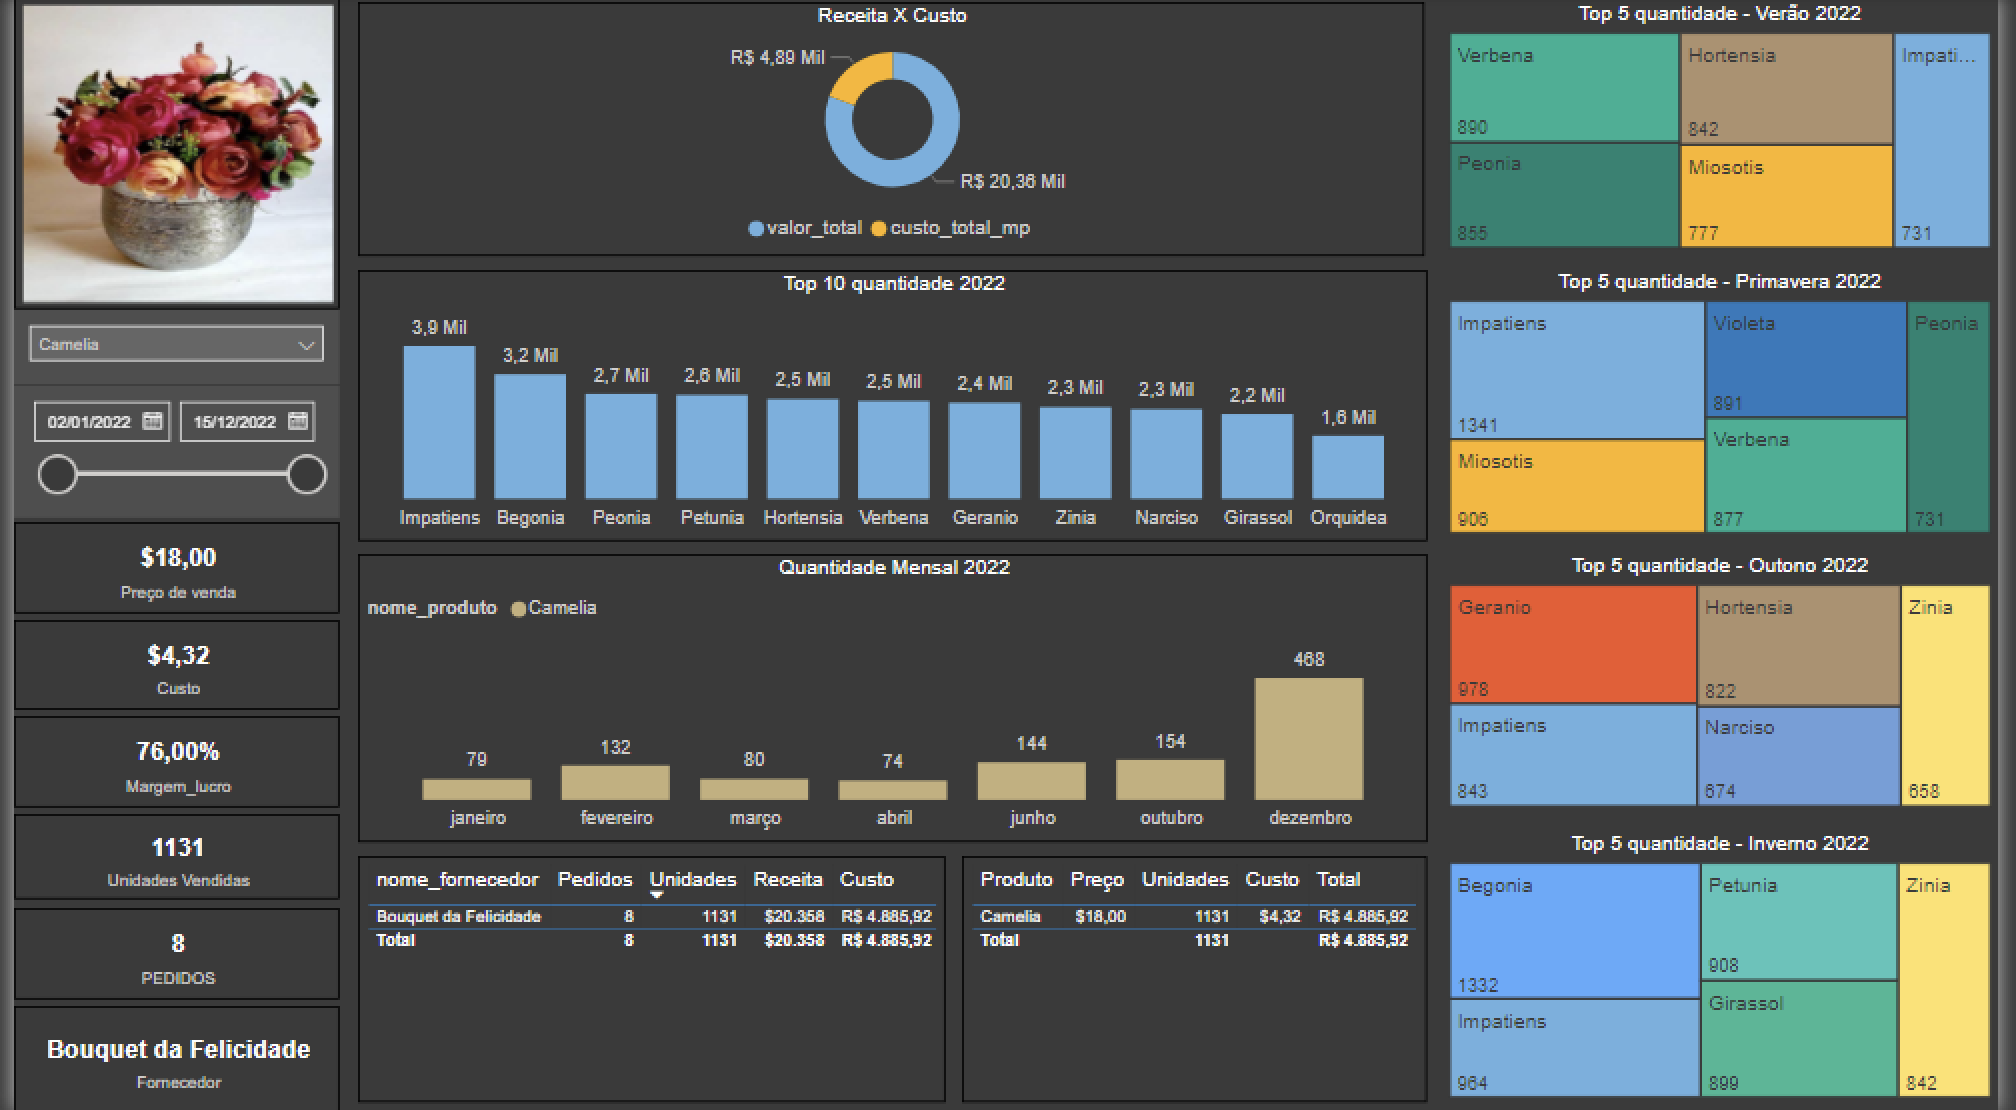

This screenshot's page, from the dashboard's own definition file:
{"tool":"powerbi","page":{"name":"Produto","canvas":[1280,720],"ordinal":2},"visuals":[{"type":"slicer","fields":{"Values":["Flora_produtos.nome_produto"]},"box":[0,202.1,210.4,48.1],"z":0},{"type":"simpleImageEBC4593F96F1425FB3D84C5BF02B5075","fields":{"imageURL":["tabela_flores_flora - Página1.link"]},"box":[0,0,210.4,202.1],"z":1000},{"type":"card","title":"Pedidos produto","fields":{"Values":["CountNonNull(Flora_pedidos.quantidade)"]},"box":[0,588.4,210.4,59.1],"z":2000},{"type":"card","title":"Unidades Vendidas","fields":{"Values":["Sum(Flora_pedidos.quantidade)"]},"box":[0,527.9,210.4,55],"z":3000},{"type":"card","fields":{"Values":["Sum(Flora_produtos.custos)"]},"box":[0,402.8,210.4,57.7],"z":4000},{"type":"card","fields":{"Values":["Sum(Flora_produtos.margem_lucro)"]},"box":[0,464.7,210.4,59.1],"z":5000},{"type":"card","fields":{"Values":["Sum(Flora_produtos.preco_produto)"]},"box":[0,339.6,210.4,59.1],"z":6000},{"type":"donutChart","title":"Receita X Custo","fields":{"Y":["Novas_medidas.valor_total","Novas_medidas.custo_total_mp"]},"box":[221.9,3.9,687.7,163.9],"z":7000},{"type":"clusteredColumnChart","title":"Top 10 quantidade 2022","fields":{"Y":["Sum(Flora_pedidos.quantidade)"],"Category":["Flora_produtos.nome_produto"]},"box":[221.4,177.4,690.2,174.6],"z":8000},{"type":"clusteredColumnChart","title":"Quantidade Mensal 2022","fields":{"Category":["Flora_pedidos.data_pedido.Variation.Hierarquia de datas.Mês"],"Series":["Flora_produtos.nome_produto"],"Y":["Sum(Flora_pedidos.quantidade)"]},"box":[221.4,360.2,690.2,185.6],"z":9000},{"type":"treemap","title":"Top 5 quantidade - Verão 2022","fields":{"Group":["Flora_produtos.nome_produto"],"Values":["Sum(Flora_pedidos.quantidade)"]},"box":[921.2,4.1,358.8,163.6],"z":10000},{"type":"treemap","title":"Top 5 quantidade - Outono 2022","fields":{"Group":["Flora_produtos.nome_produto"],"Values":["Sum(Flora_pedidos.quantidade)"]},"box":[921.2,360.2,358.8,167.7],"z":11000},{"type":"treemap","title":"Top 5 quantidade - Inverno 2022","fields":{"Group":["Flora_produtos.nome_produto"],"Values":["Sum(Flora_pedidos.quantidade)"]},"box":[921.2,538.9,358.8,176],"z":12000},{"type":"treemap","title":"Top 5 quantidade - Primavera 2022","fields":{"Group":["Flora_produtos.nome_produto"],"Values":["Sum(Flora_pedidos.quantidade)"]},"box":[921.2,177.4,358.8,174.6],"z":13000},{"type":"card","fields":{"Values":["Min(Flora_fornecedores.nome_fornecedor)"]},"box":[0,651.7,210.4,68.7],"z":14000},{"type":"tableEx","fields":{"Values":["Flora_fornecedores.nome_fornecedor","Flora_pedidos.id_pedido","Flora_pedidos.quantidade","Flora_pedidos.valor_total","Novas_medidas.custo_total_mp"]},"box":[221.4,555.4,379.5,159.5],"z":15000},{"type":"slicer","fields":{"Values":["Flora_pedidos.data_pedido"]},"box":[0,251.6,210.4,85.2],"z":15001},{"type":"tableEx","fields":{"Values":["Flora_produtos.nome_produto","Flora_produtos.preco_produto","Flora_pedidos.quantidade","Flora_produtos.custos","Novas_medidas.custo_total_mp"]},"box":[611.8,555.4,299.7,159.5],"z":15002}]}

Visuals, with their boxes in screenshot pixels (x1, y1, x2, y2), scaled from the page's 1280x720 canvas onto the 2016x1110 screenshot:
slicer - Flora_produtos.nome_produto: bbox(0, 312, 331, 386)
simpleImageEBC4593F96F1425FB3D84C5BF02B5075 - tabela_flores_flora - Página1.link: bbox(0, 0, 331, 312)
"Pedidos produto" card: bbox(0, 907, 331, 998)
"Unidades Vendidas" card: bbox(0, 814, 331, 899)
card - Sum(Flora_produtos.custos): bbox(0, 621, 331, 710)
card - Sum(Flora_produtos.margem_lucro): bbox(0, 716, 331, 808)
card - Sum(Flora_produtos.preco_produto): bbox(0, 524, 331, 615)
"Receita X Custo" donutChart: bbox(349, 6, 1433, 259)
"Top 10 quantidade 2022" clusteredColumnChart: bbox(349, 273, 1436, 543)
"Quantidade Mensal 2022" clusteredColumnChart: bbox(349, 555, 1436, 841)
"Top 5 quantidade - Verão 2022" treemap: bbox(1451, 6, 2015, 259)
"Top 5 quantidade - Outono 2022" treemap: bbox(1451, 555, 2015, 814)
"Top 5 quantidade - Inverno 2022" treemap: bbox(1451, 831, 2015, 1102)
"Top 5 quantidade - Primavera 2022" treemap: bbox(1451, 273, 2015, 543)
card - Min(Flora_fornecedores.nome_fornecedor): bbox(0, 1005, 331, 1109)
tableEx - Flora_fornecedores.nome_fornecedor x Flora_pedidos.id_pedido: bbox(349, 856, 946, 1102)
slicer - Flora_pedidos.data_pedido: bbox(0, 388, 331, 519)
tableEx - Flora_produtos.nome_produto x Flora_produtos.preco_produto: bbox(964, 856, 1436, 1102)
